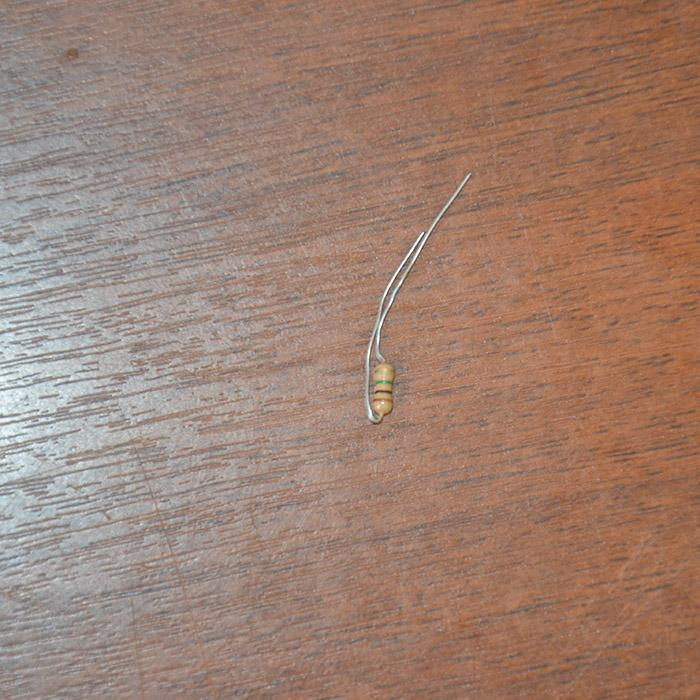resistor: (370, 361, 396, 416)
